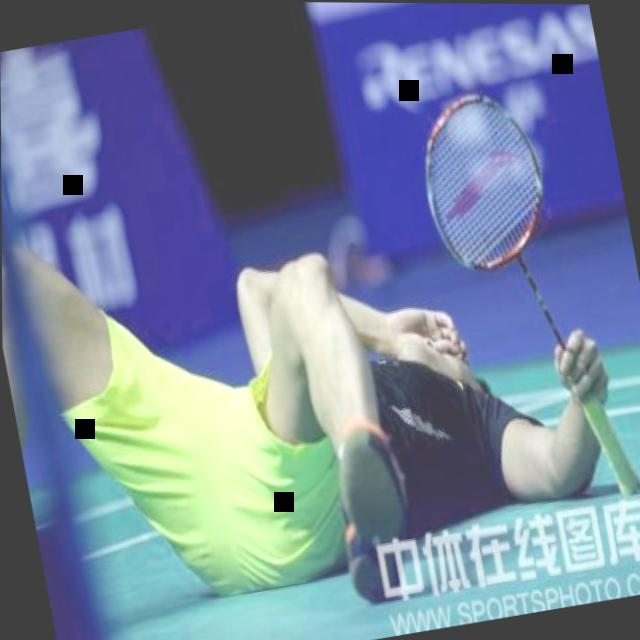Fall-Detected: (0, 84, 640, 640)
